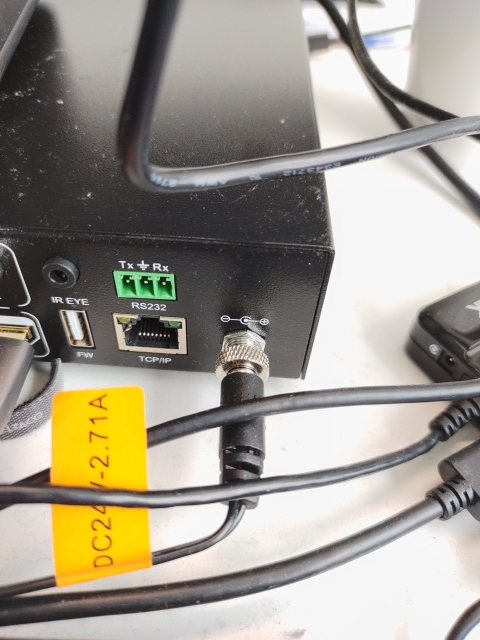3.5mm_audio: (42, 262, 76, 288)
Ethernet: (115, 314, 182, 352)
USB: (59, 309, 96, 349)
